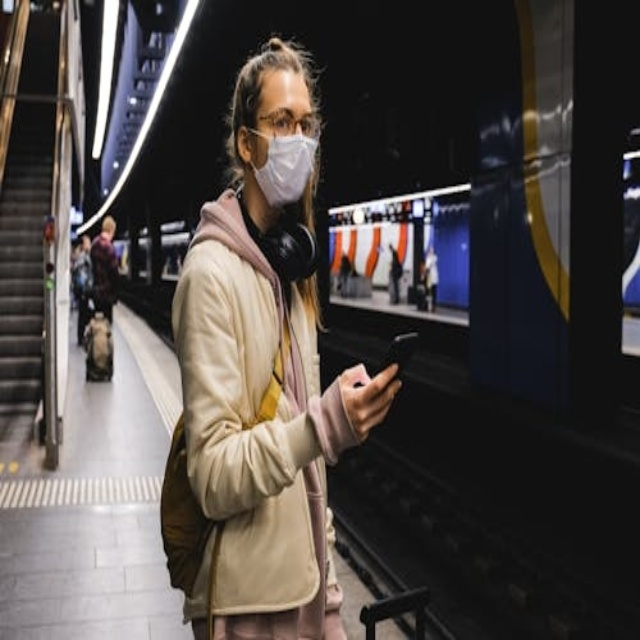Gafas: (248, 114, 320, 142)
Mascara: (247, 127, 317, 208)
Sin_guantes: (342, 359, 405, 442)
